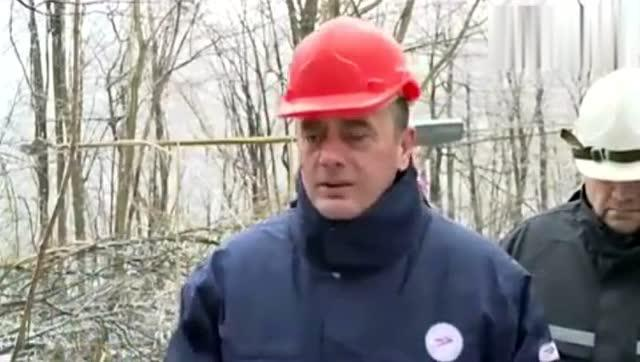helmet: (282, 18, 422, 121), (568, 68, 639, 152)
